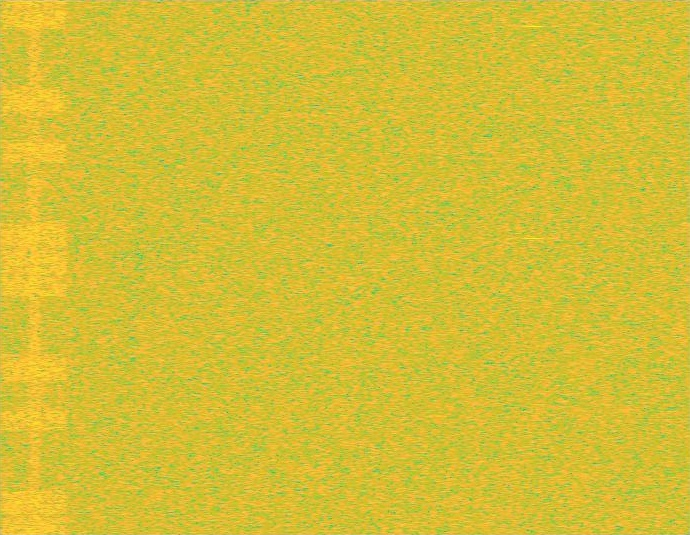DSSS: (27, 0, 42, 534)
LTE: (0, 0, 69, 534)
Radar: (526, 0, 540, 534)
